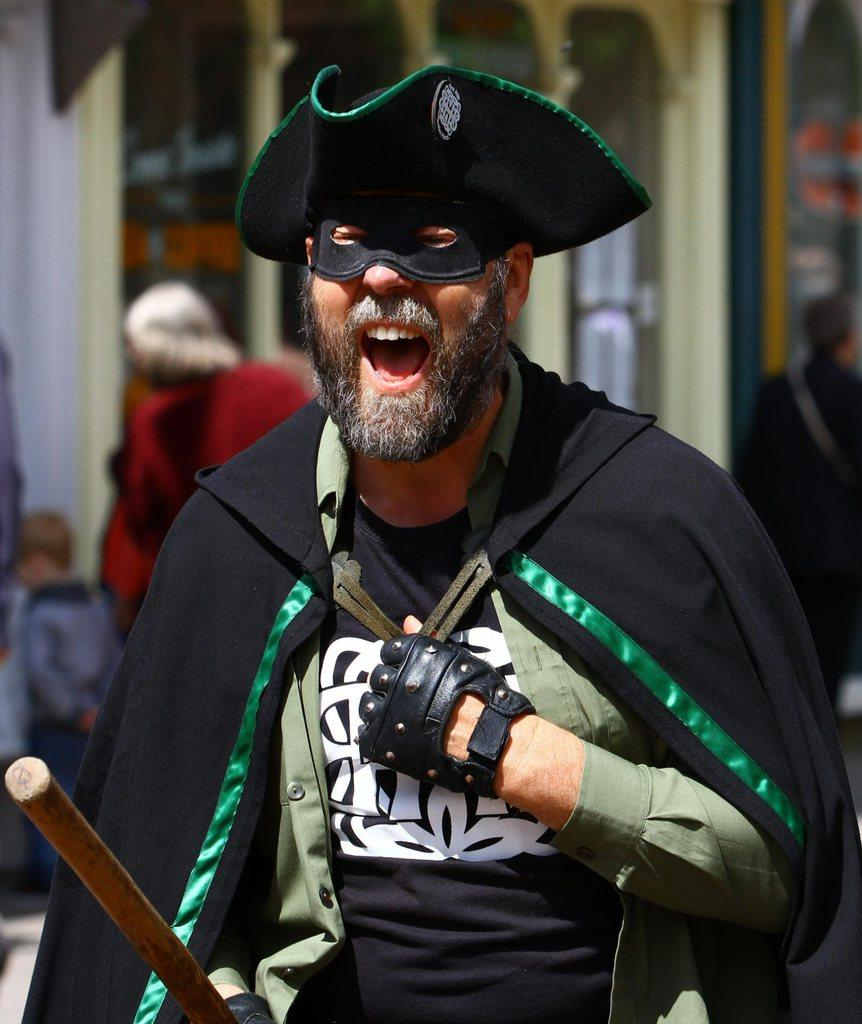Hat: (233, 61, 657, 266)
